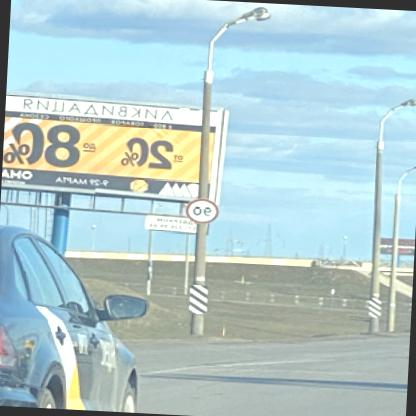speedlimit: (188, 197, 221, 223)
